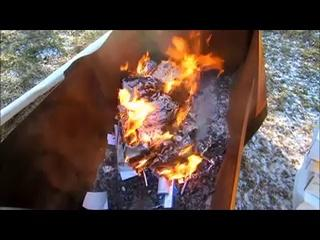Fire: (120, 44, 174, 178)
